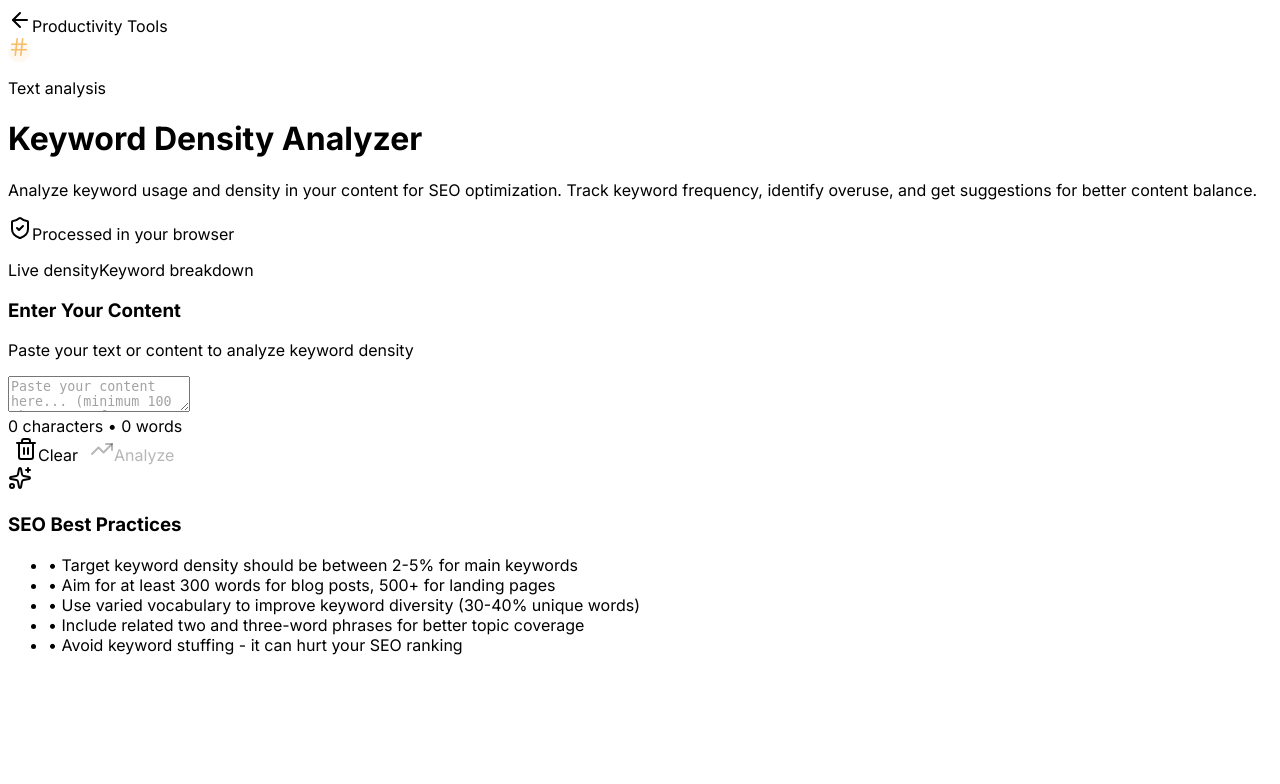
Scenario: Keyword Density Analyzer Page › Keyword Analysis › identifies two-word phrases
This screenshot has width=1280, height=784.
Step 1. Replace the text in the text box with placeholder "Paste your content here" with "keyword density keyword density analysis keyword density optimization" → (99,394), box [8,376,190,412]
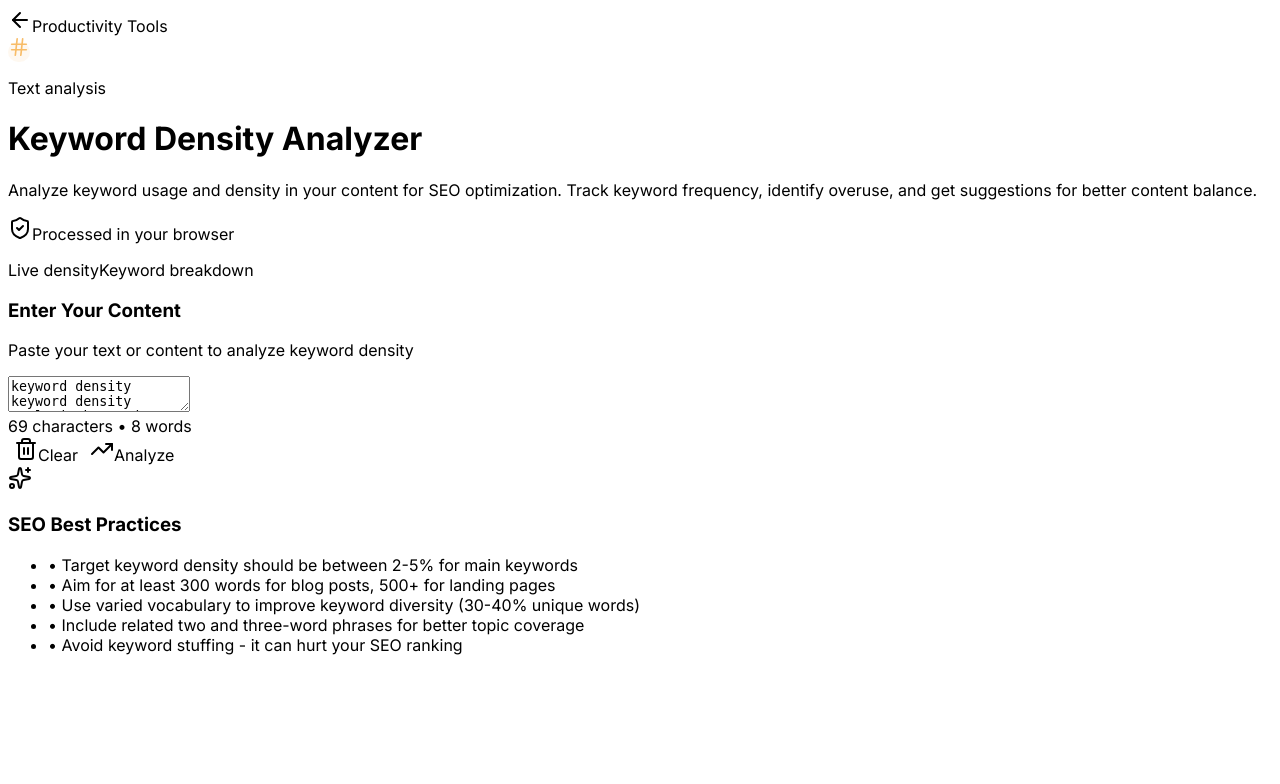
Step 2. Click the button "Analyze" → (132,451), box [84,436,180,466]
(page scrolled)
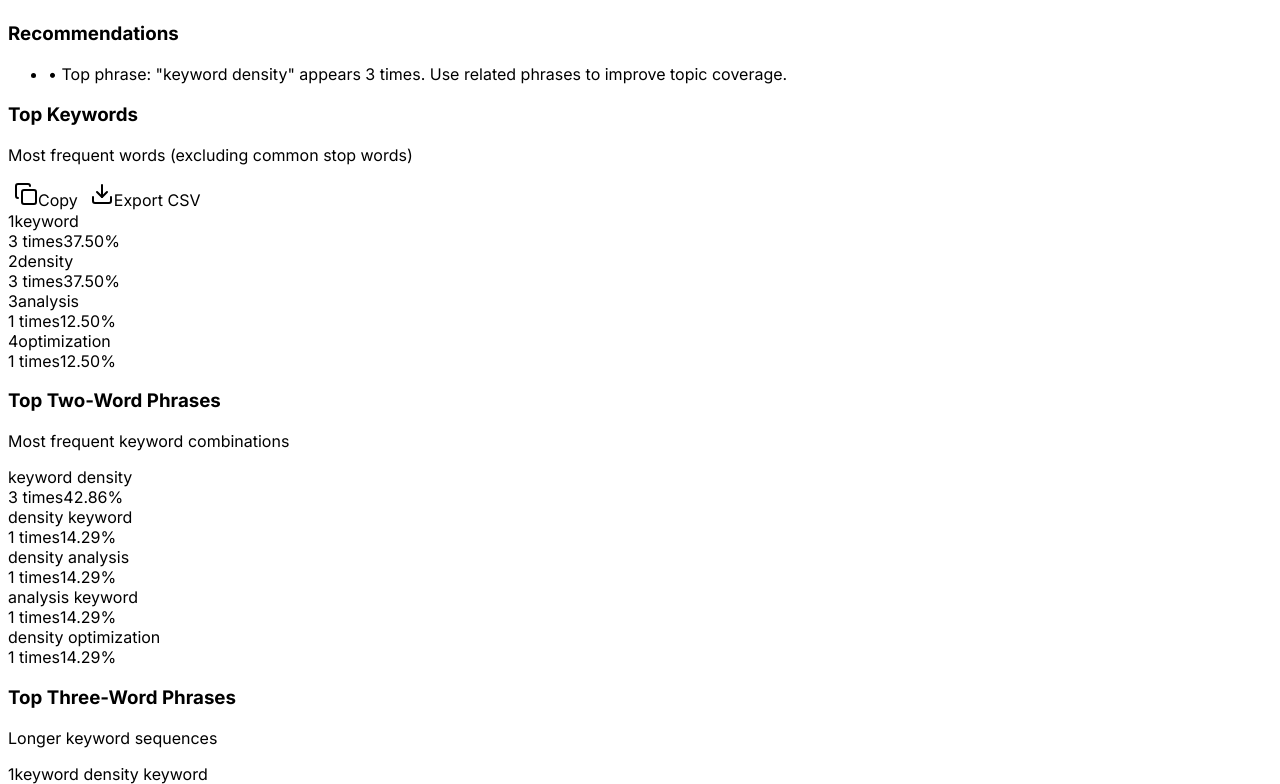
Expected: the heading "Top Two-Word Phrases" is shown, [8,389,221,412]
